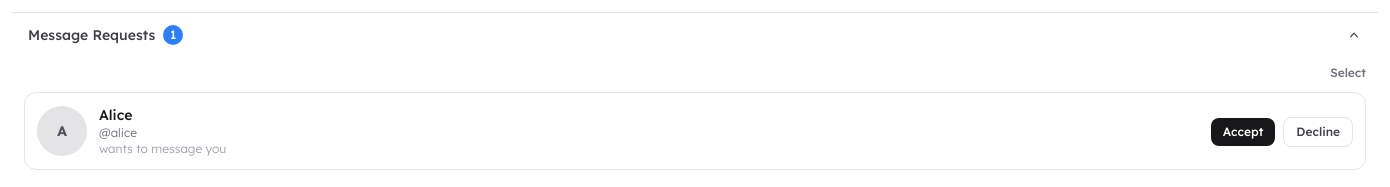
MessageRequestList › exits select mode when cancel is clicked
Click the button "Select".
click(1348, 73)  # box 1330,65 -> 1366,81
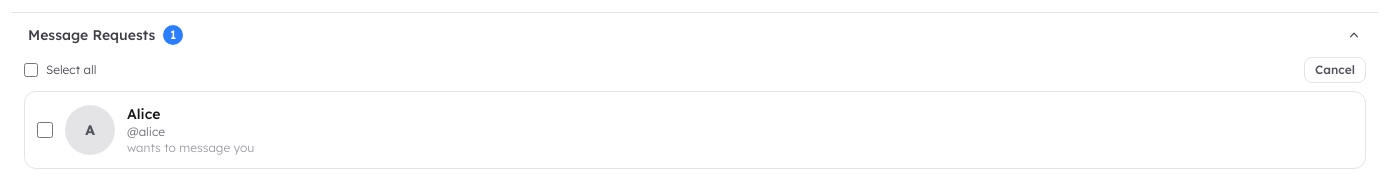
Expected: the text "Select all" is shown, 24,62 -> 96,78
Click the button "Cancel".
click(1335, 70)  # box 1304,57 -> 1366,83
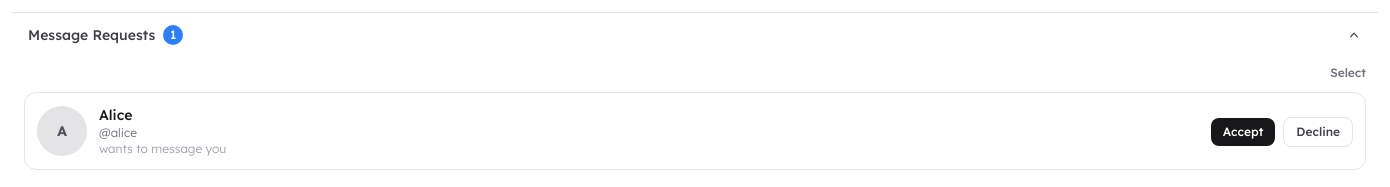
Expected: the text "Select all" is gone
